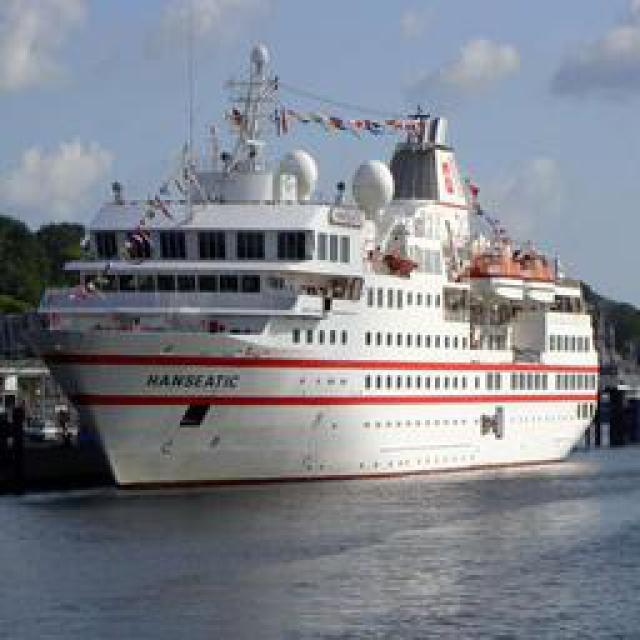Ship: (37, 78, 610, 486)
